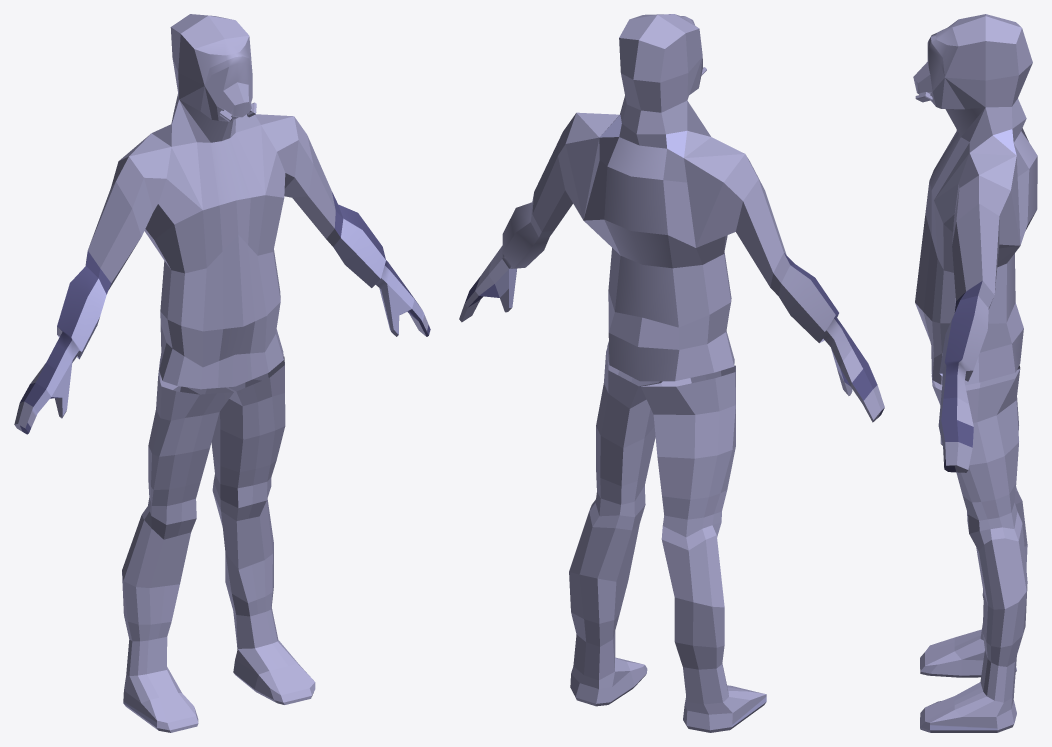
The model's file is doc.fbx.
The picture shows the model from 3 angles, left to right: view 1: azimuth 30°, elevation 25°; view 2: azimuth 150°, elevation 25°; view 3: azimuth 270°, elevation 25°; orthographic projection. The views are drawn at different scales.
Visible parts, largest first — view 1: polySurface2, polySurface4, polySurface3; view 2: polySurface2, polySurface4, polySurface3; view 3: polySurface2, polySurface3, polySurface4.
Part boxes in pixels (x1,y1,x2,y2): polySurface2: (14, 14, 430, 434); polySurface4: (122, 358, 233, 732); polySurface3: (211, 356, 315, 704); polySurface2: (459, 14, 884, 422); polySurface4: (641, 365, 766, 732); polySurface3: (569, 348, 662, 706); polySurface2: (913, 14, 1037, 472); polySurface3: (920, 369, 1027, 732); polySurface4: (920, 365, 1027, 677).
Size of the model in its own units: 26.9 by 42.52 by 7.06.
